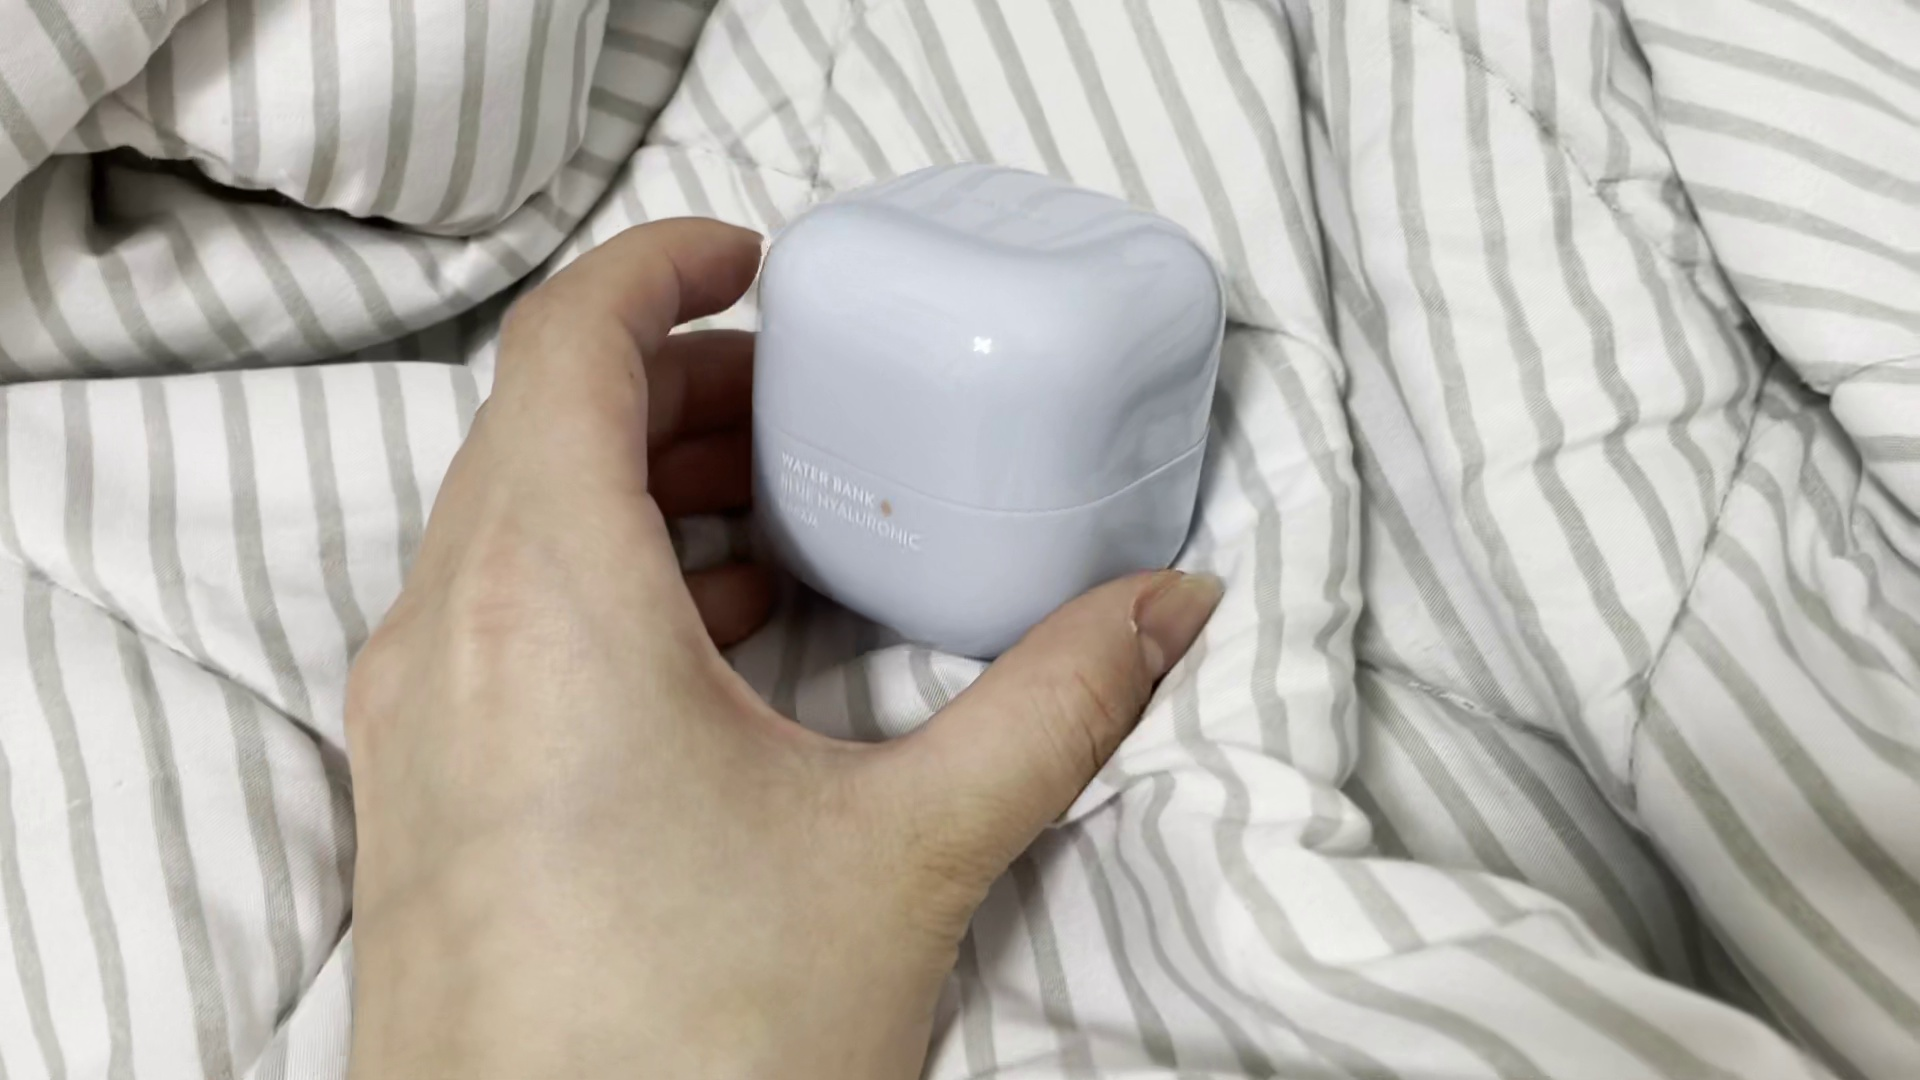cream: (750, 156, 1226, 651)
